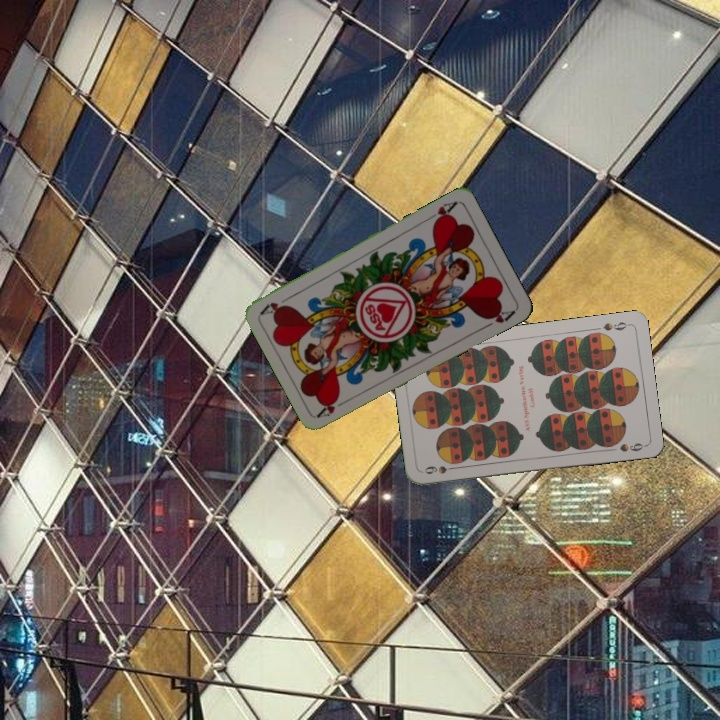HA: (423, 197, 460, 227), (314, 393, 352, 420)
S9: (421, 462, 460, 477), (599, 318, 632, 333)
